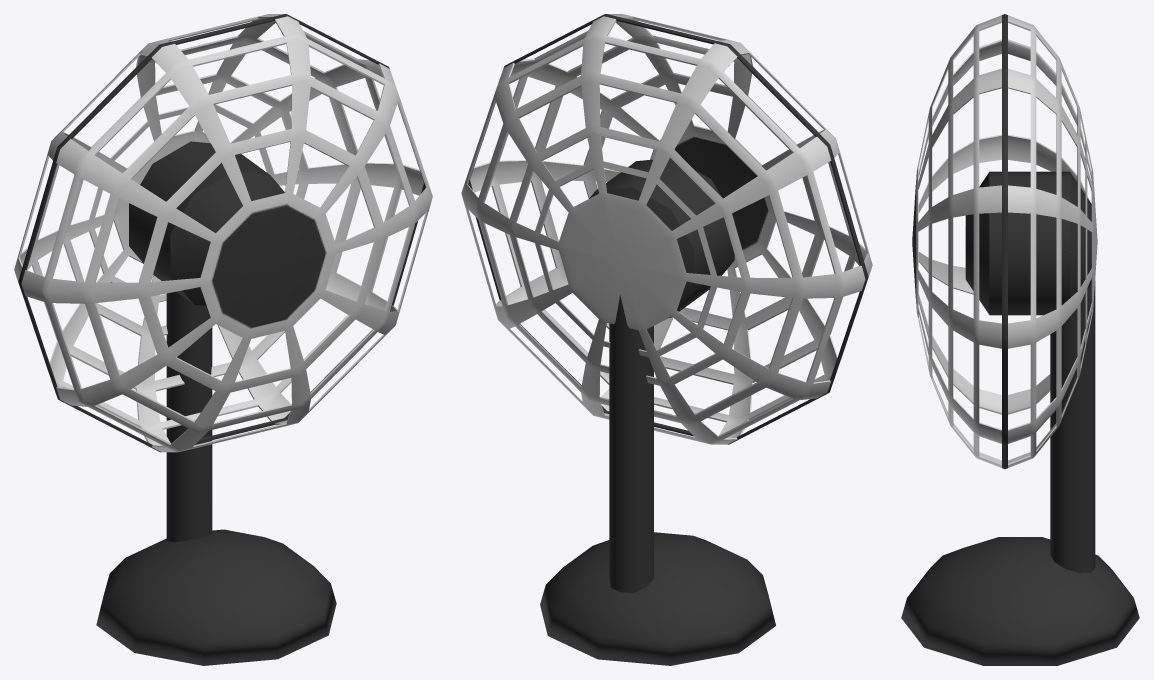
Rendered from Fan.fbx.
3 views of the same model, side by side, from view 1: azimuth 30°, elevation 25°; view 2: azimuth 150°, elevation 25°; view 3: azimuth 270°, elevation 25° (orthographic). The views are drawn at different scales.
Parts seen in each view (by area): view 1: Fan; view 2: Fan; view 3: Fan.
Part boxes in pixels (<box>): Fan: <box>14,14,432,665</box>; Fan: <box>461,14,872,665</box>; Fan: <box>901,14,1139,665</box>.
Bounding box in the file's own units: 3.85 × 5.31 × 2.
